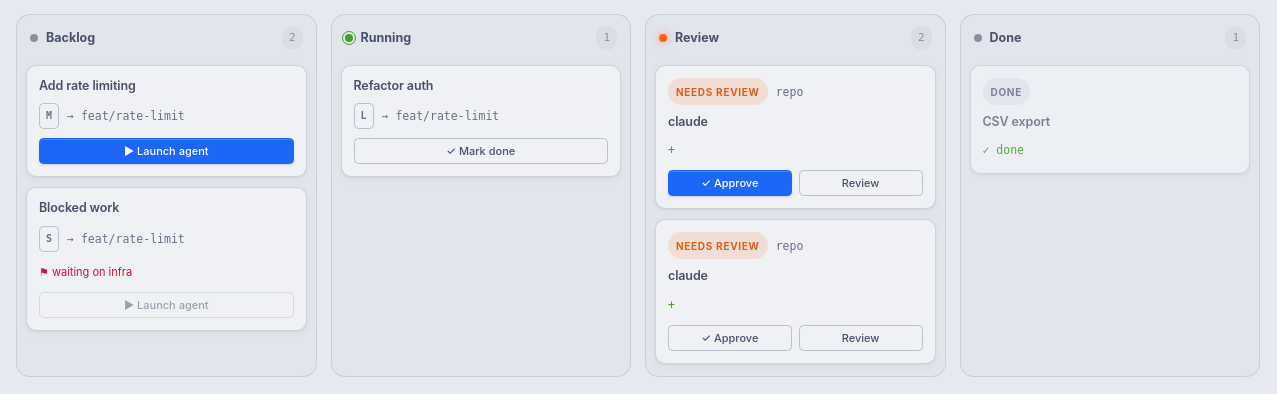
it: PipelineView › approves a review card into done as a merged card
Click the 1st button "✓ Approve" at (730, 183), box [668,170,792,196]
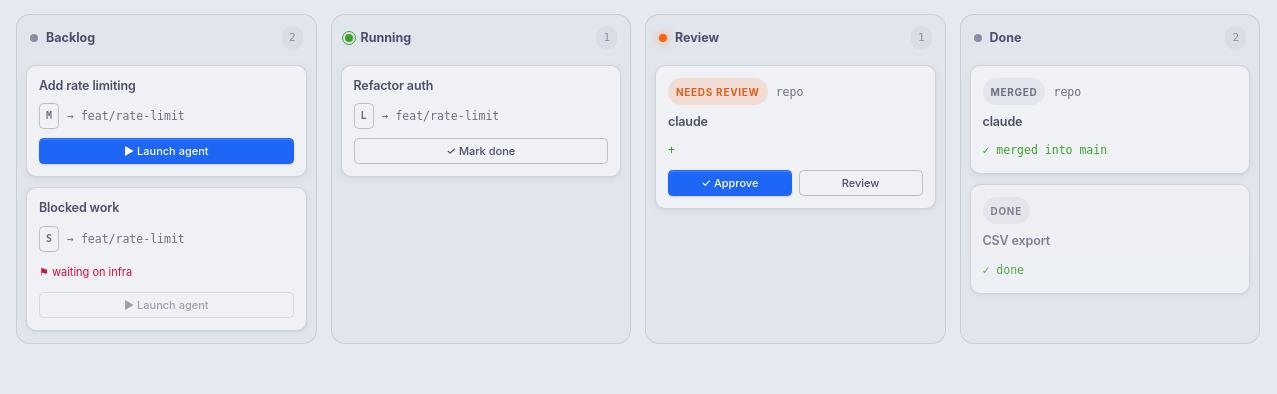
Check: the text with class "tag" reads "merged", box [990,86,1038,98]
Check: the element showing "merged repo claude ✓ merged into main" is shown, box [970,65,1250,174]
Check: the 2nd text "2" is shown, box [1225,26,1246,50]
